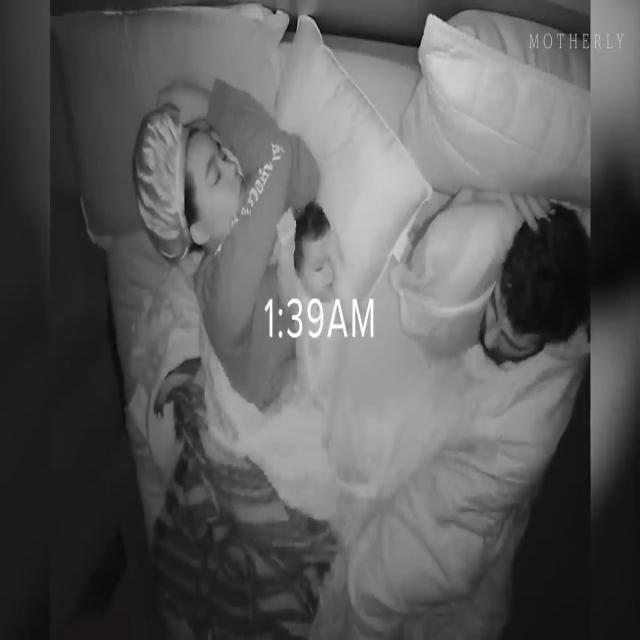baby: (275, 204, 356, 406)
